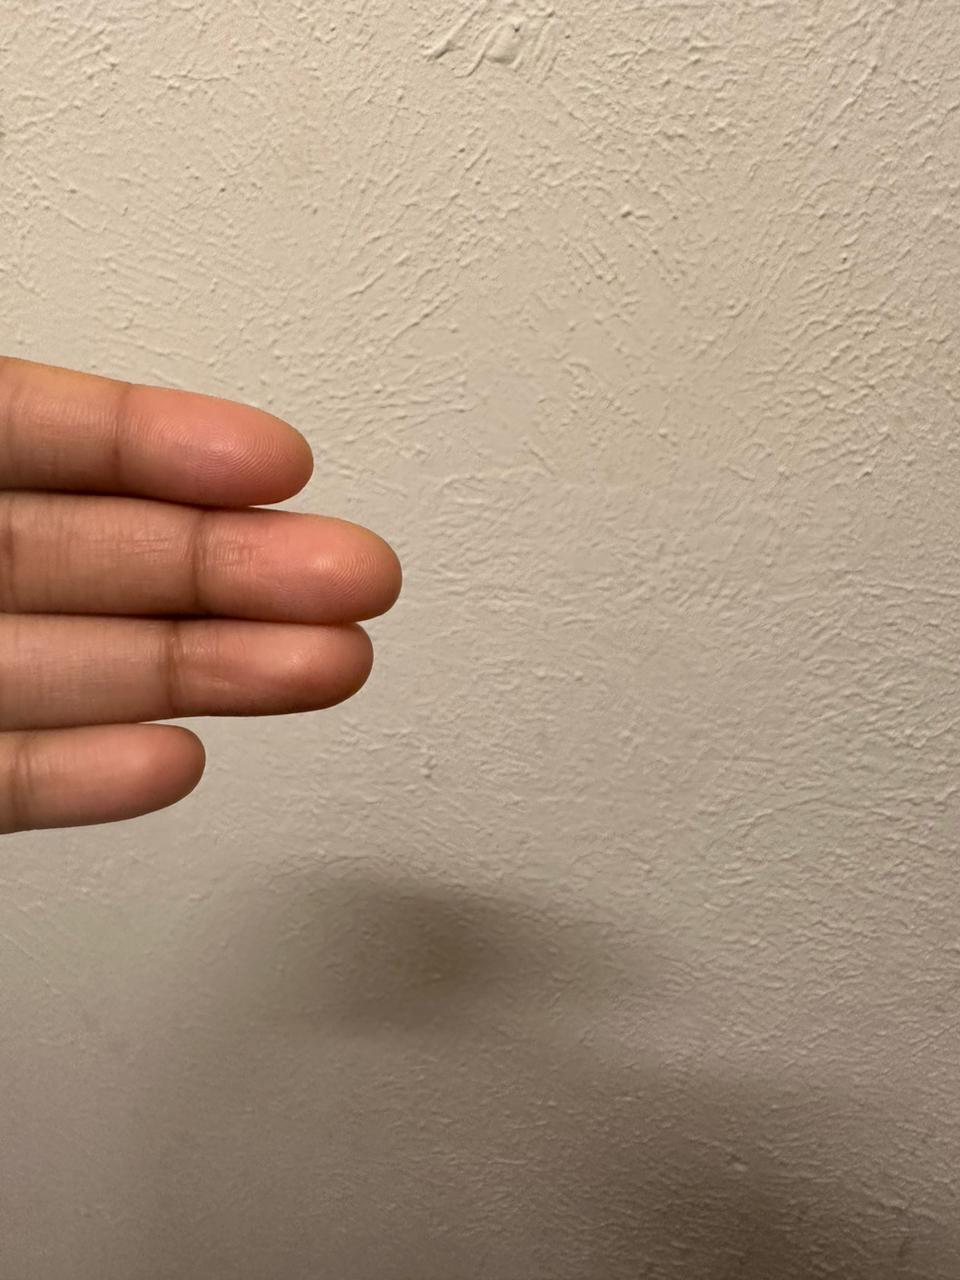finger: (113, 390, 343, 505), (194, 506, 421, 622), (164, 619, 407, 722), (8, 724, 227, 819)
